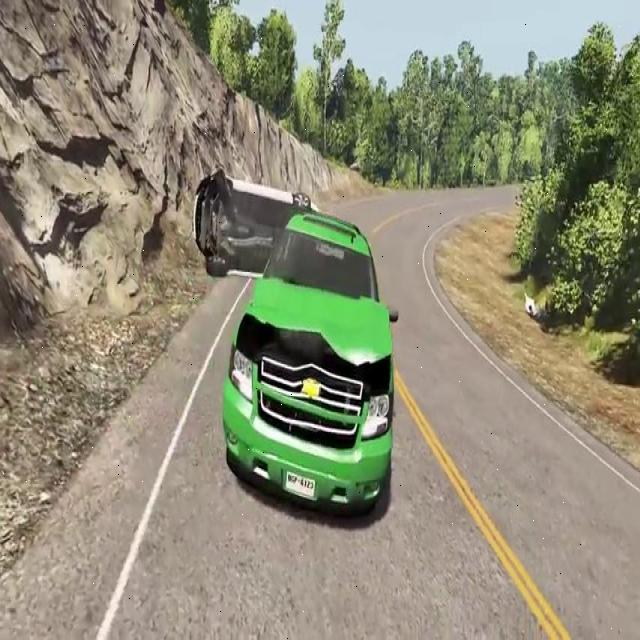severe: (192, 158, 321, 283)
